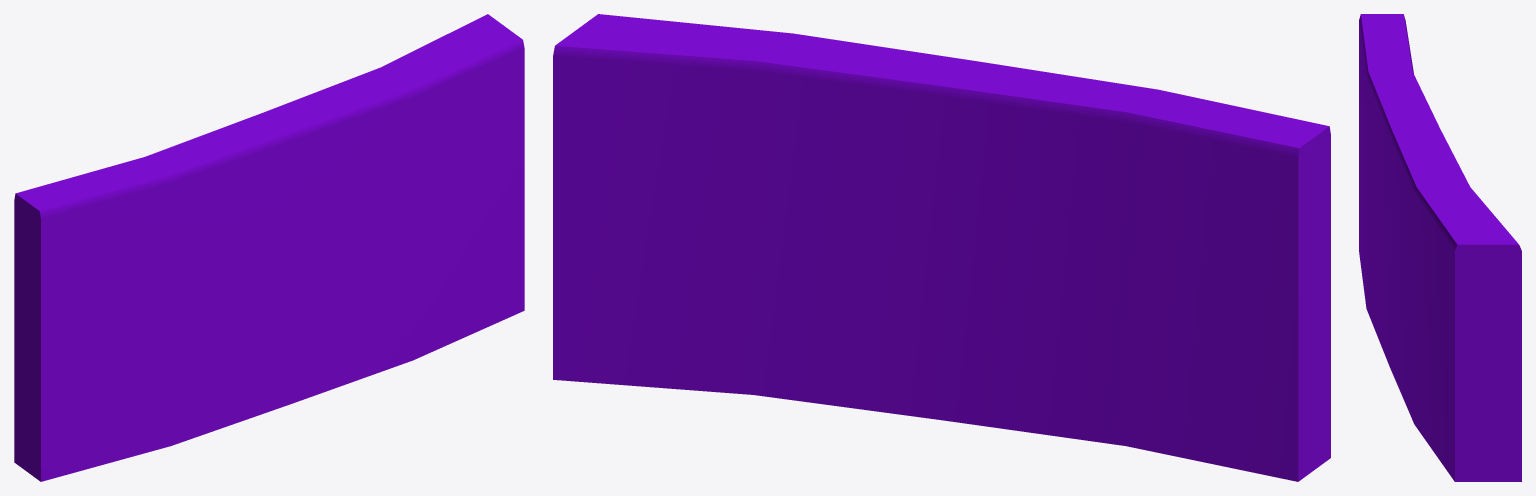
The model's file is RampN_A_Right.fbx.
The picture shows the model from 3 angles, left to right: view 1: azimuth 30°, elevation 25°; view 2: azimuth 150°, elevation 25°; view 3: azimuth 270°, elevation 25°; orthographic projection. The views are drawn at different scales.
Parts seen in each view (by area): view 1: RampN_A_Right; view 2: RampN_A_Right; view 3: RampN_A_Right.
Boxes of the visible parts, left/top/right/bottom form: RampN_A_Right: left=14, top=14, right=524, bottom=481; RampN_A_Right: left=553, top=14, right=1330, bottom=481; RampN_A_Right: left=1359, top=14, right=1521, bottom=481.
Size of the model in its own units: 6.07 by 2.91 by 1.81.
